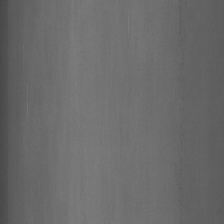silk_spot: (122, 9, 137, 53)
